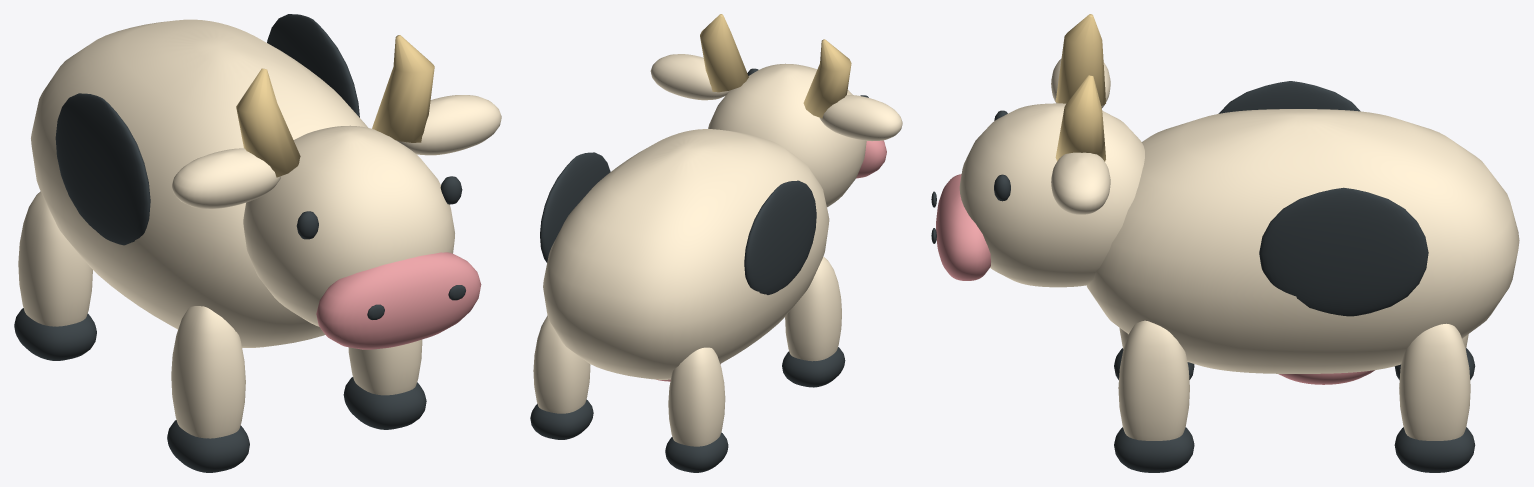
File: farm_cow.glb
The picture shows the model from 3 angles, left to right: view 1: azimuth 30°, elevation 25°; view 2: azimuth 150°, elevation 25°; view 3: azimuth 270°, elevation 25°; orthographic projection. The views are drawn at different scales.
Visible parts, largest first — view 1: farm_cow_crafted_mesh; view 2: farm_cow_crafted_mesh; view 3: farm_cow_crafted_mesh.
Boxes of the visible parts, x1,y1,x2,y2 form: farm_cow_crafted_mesh: (14, 14, 501, 472); farm_cow_crafted_mesh: (530, 14, 902, 472); farm_cow_crafted_mesh: (931, 14, 1519, 472).
Size of the model in its own units: 1.35 by 1.68 by 2.33.
